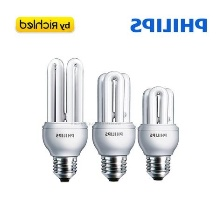light_bulb: (39, 53, 91, 185), (90, 70, 137, 183), (136, 84, 179, 182)
